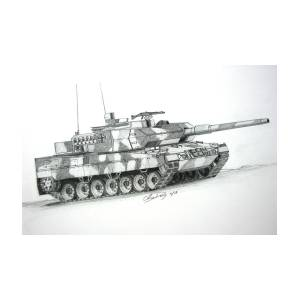Battle Tank: (31, 107, 272, 207)
